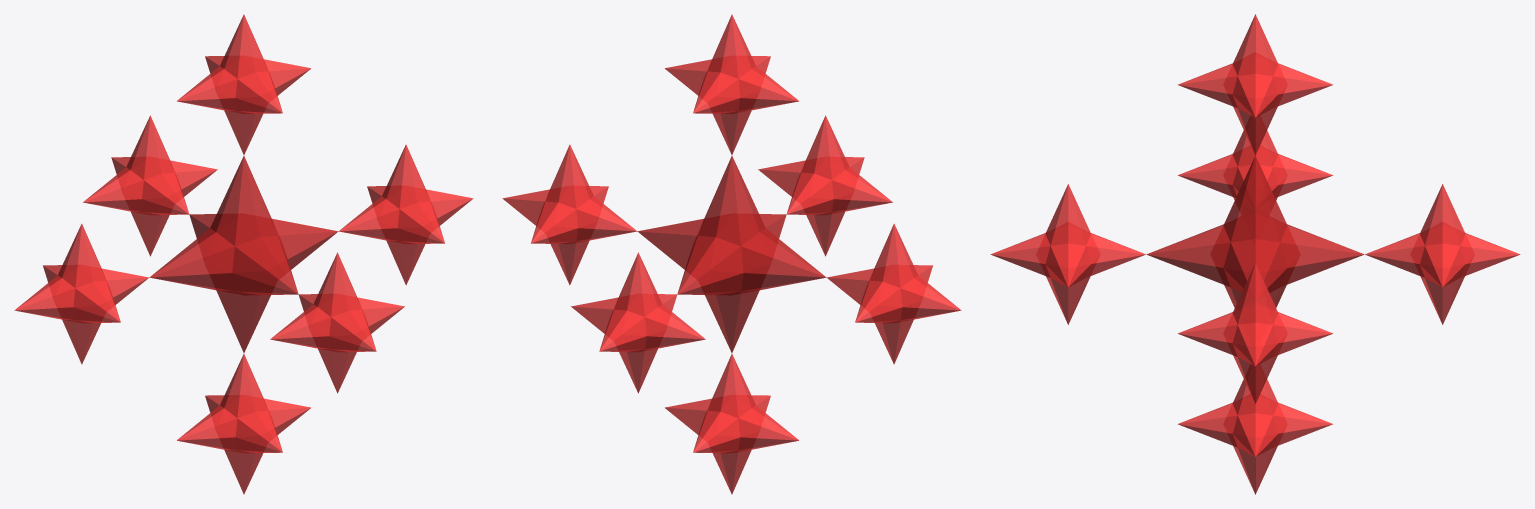
File: fractalsmallhexacronicicositetrahedron1.glb
3 views of the same model, side by side, from view 1: azimuth 30°, elevation 25°; view 2: azimuth 150°, elevation 25°; view 3: azimuth 270°, elevation 25° (orthographic).
Bounding box in the file's own units: 12.28 × 12.28 × 12.28.
